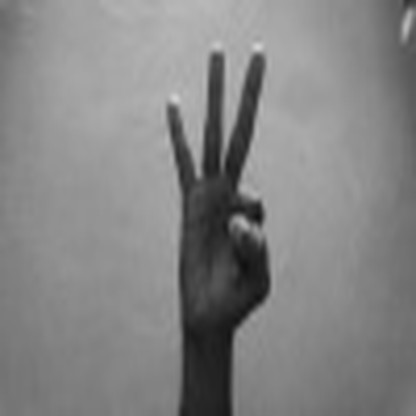f: (153, 29, 289, 321)
